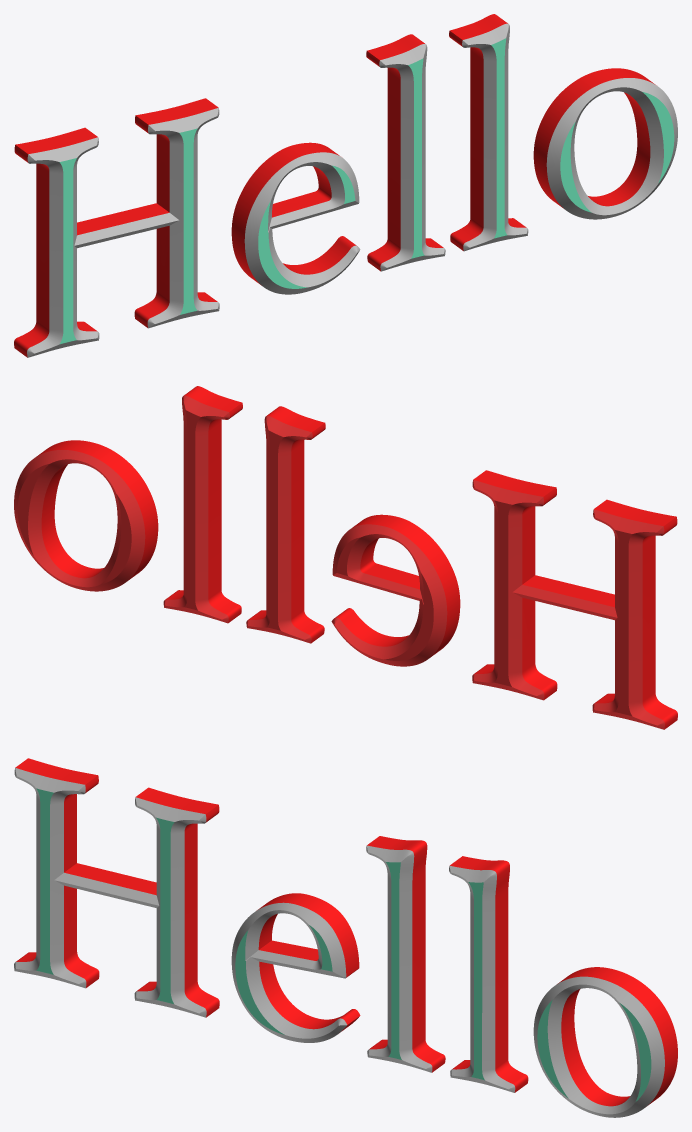
File: hello2.gltf
3 renders of one model, top to bottom at view 1: azimuth 30°, elevation 25°; view 2: azimuth 150°, elevation 25°; view 3: azimuth 330°, elevation 25°, orthographic.
Visible parts, largest first — view 1: default_glyph1, default_glyph5, default_glyph2, default_glyph3, default_glyph4; view 2: default_glyph1, default_glyph5, default_glyph2, default_glyph3, default_glyph4; view 3: default_glyph1, default_glyph5, default_glyph2, default_glyph3, default_glyph4.
Boxes of the visible parts, x1,y1,x2,y2 form: default_glyph1: (14,98,219,357); default_glyph5: (533,68,677,219); default_glyph2: (231,142,360,294); default_glyph3: (366,34,445,271); default_glyph4: (449,14,528,251); default_glyph1: (472,470,677,729); default_glyph5: (14,440,158,591); default_glyph2: (331,514,460,666); default_glyph3: (246,406,325,643); default_glyph4: (163,386,242,623); default_glyph1: (14,758,219,1017); default_glyph5: (533,967,677,1117); default_glyph2: (231,893,360,1042); default_glyph3: (366,836,445,1072); default_glyph4: (449,856,528,1092).
Size of the model in its own units: 2.87 by 0.9255 by 0.1768.
